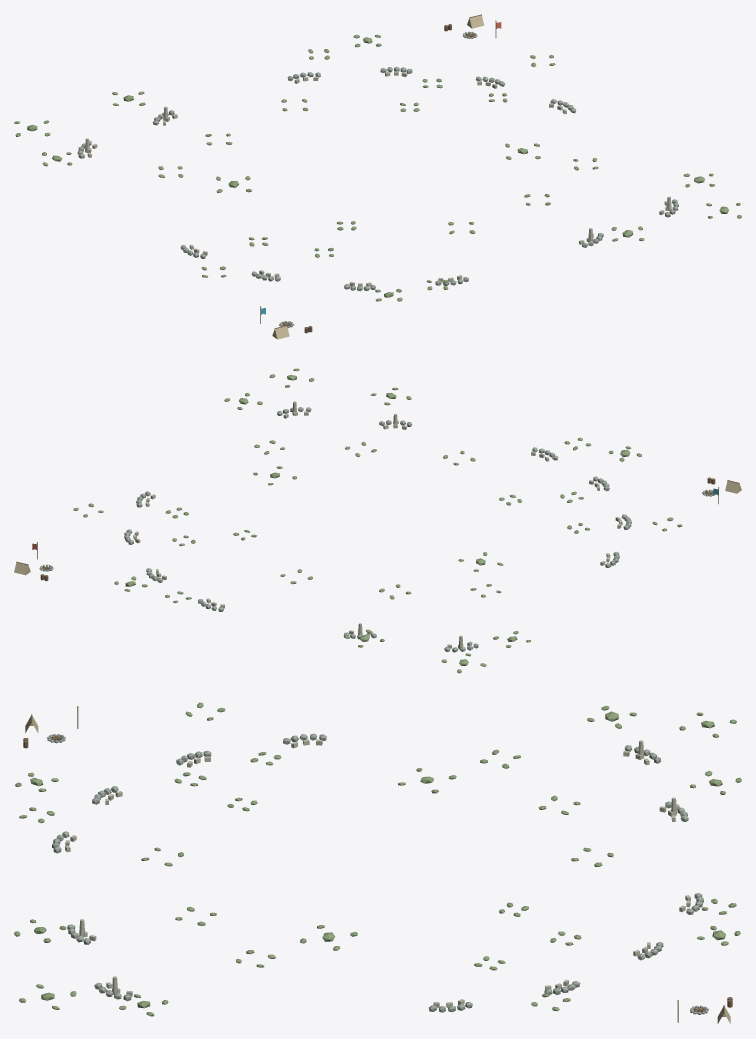
The model's file is SM_R01_Camps_and_Ruins.fbx.
3 views of the same model, one above another, from view 1: azimuth 30°, elevation 25°; view 2: azimuth 150°, elevation 25°; view 3: azimuth 270°, elevation 25° (orthographic). The views are drawn at different scales.
Parts seen in each view (by area): view 1: SM_R01_Camps_and_Ruins; view 2: SM_R01_Camps_and_Ruins; view 3: SM_R01_Camps_and_Ruins.
Boxes of the visible parts, bbox=[...] form: SM_R01_Camps_and_Ruins: bbox=[14, 14, 741, 339]; SM_R01_Camps_and_Ruins: bbox=[14, 368, 741, 673]; SM_R01_Camps_and_Ruins: bbox=[14, 702, 741, 1023].
Bounding box in the file's own units: 99.96 × 99.67 × 3.62.
